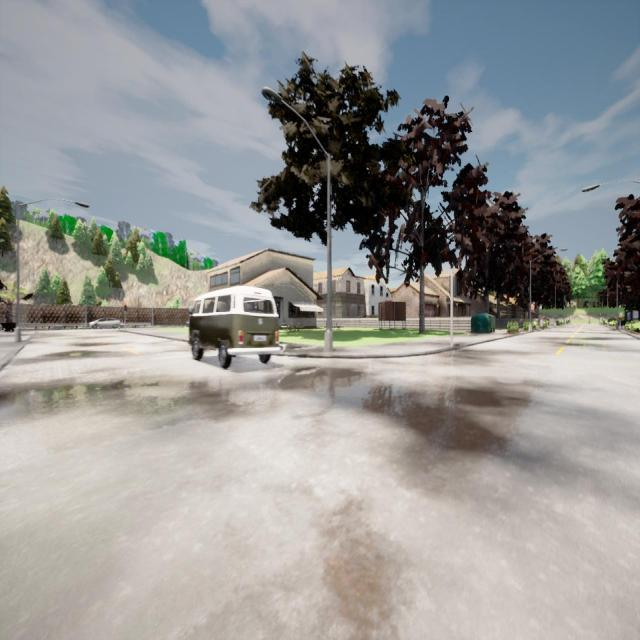Vehicle: (188, 286, 280, 368), (88, 318, 124, 329)
traffic_light: (449, 276, 456, 296), (124, 303, 127, 311)
